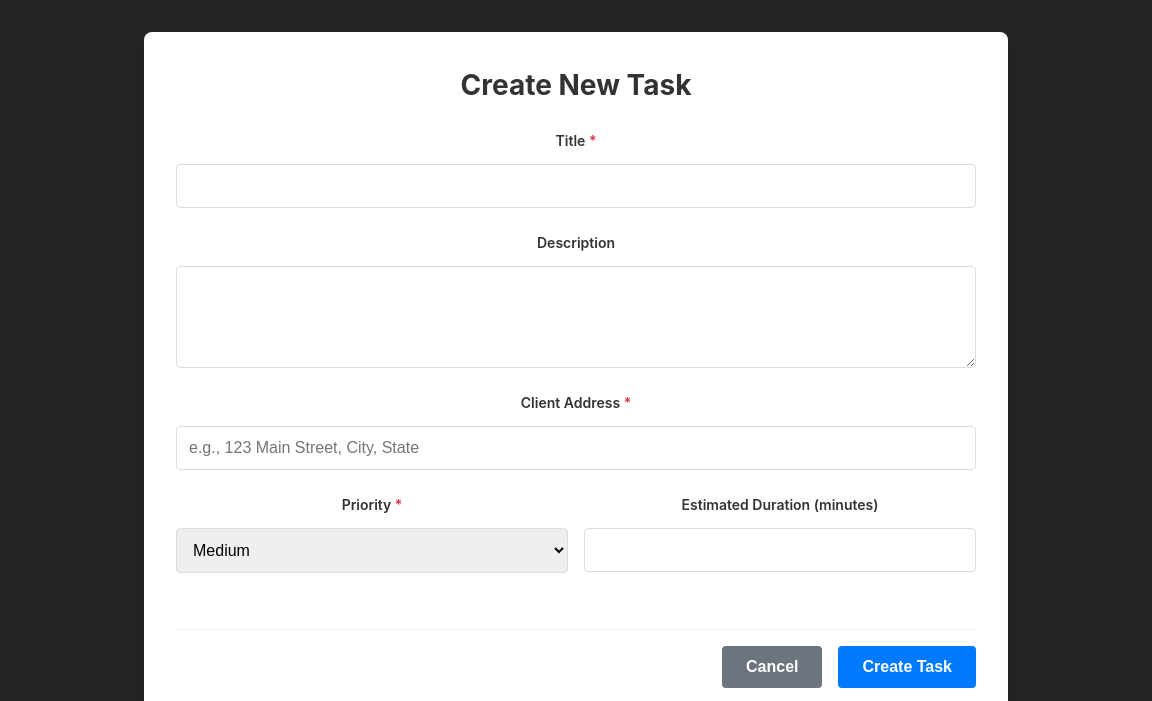
TaskForm Component › should show validation error when address lacks numbers
Type "Valid Title" into the field labelled "Title *" at (576, 186), box x1=176 y1=164 x2=976 y2=208
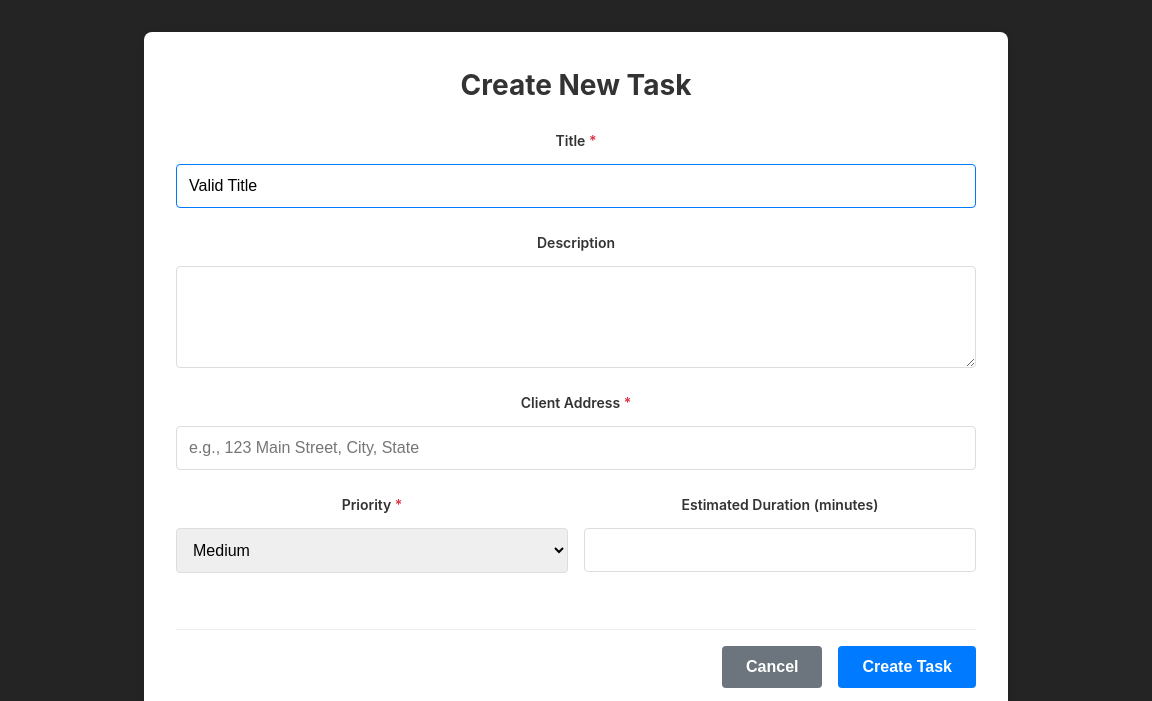
Type "Main Street" into the field labelled "Client Address *" at (576, 448), box x1=176 y1=426 x2=976 y2=470
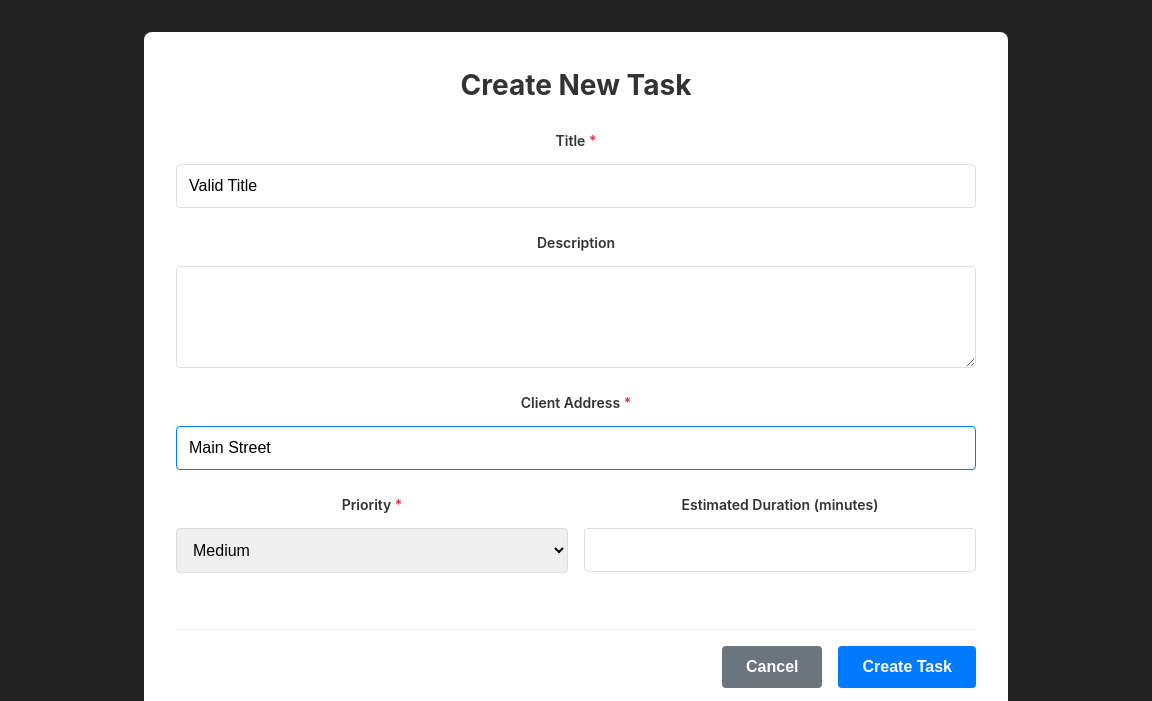
Click the button "Create Task" at (907, 667), box x1=838 y1=646 x2=976 y2=688
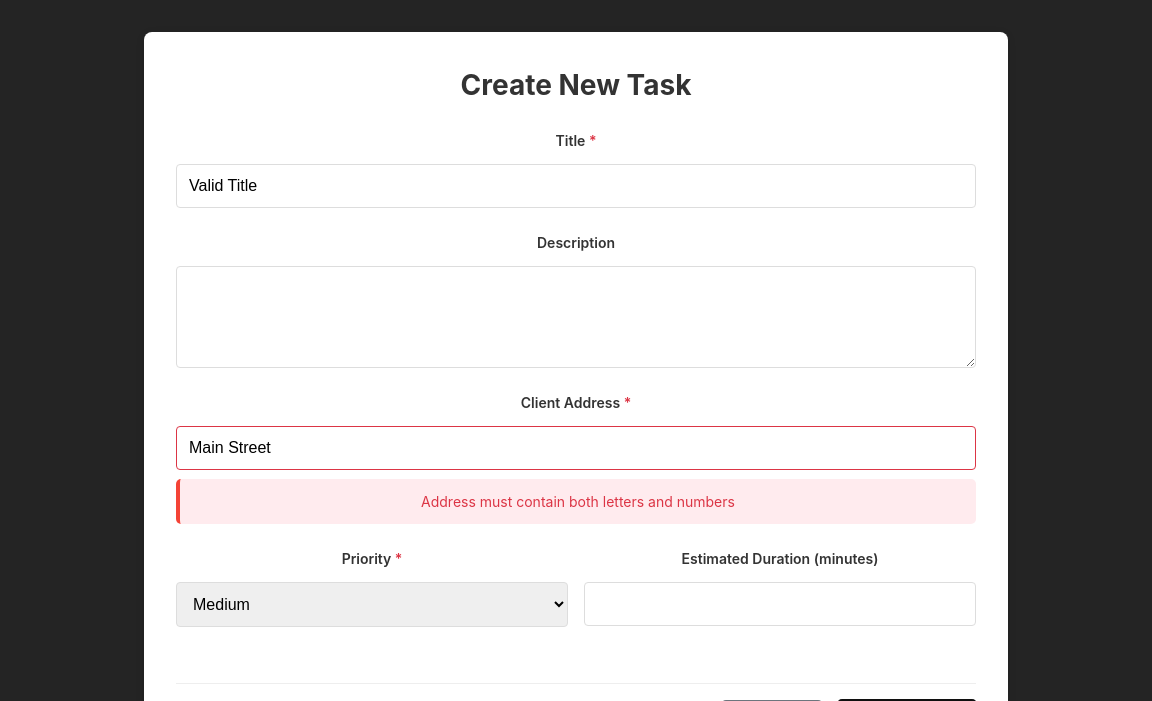
Now the text "Address must contain both letters and numbers" is shown, box x1=176 y1=479 x2=976 y2=524
